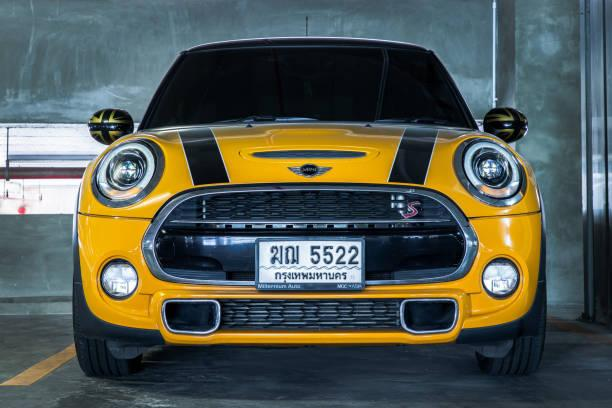mini: (283, 158, 341, 187)
